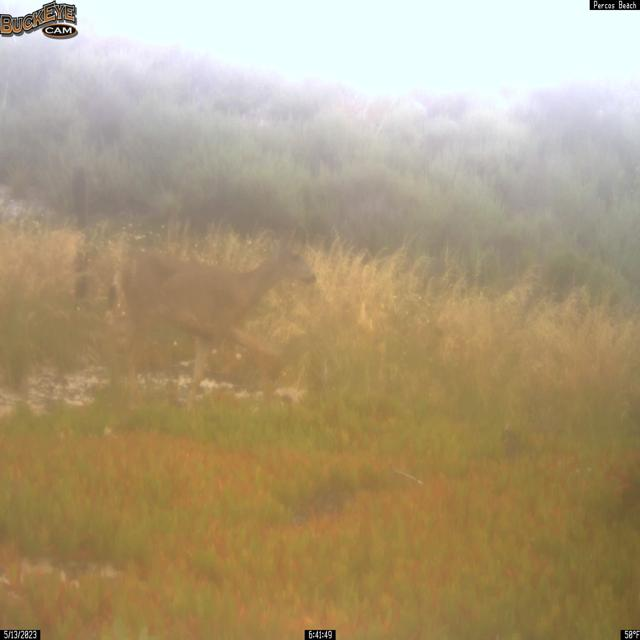deer: (108, 226, 317, 415)
